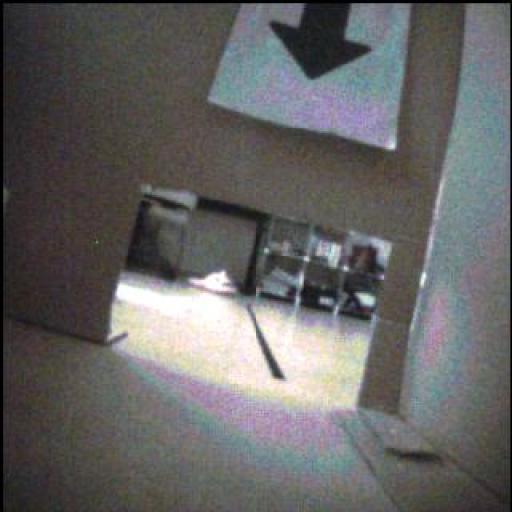arrow: (272, 5, 373, 80)
